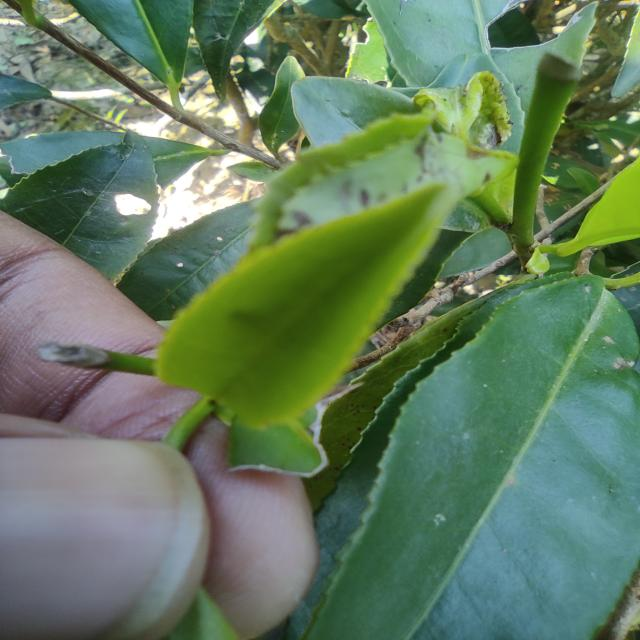Category C(4-7 days): (119, 169, 477, 452)
